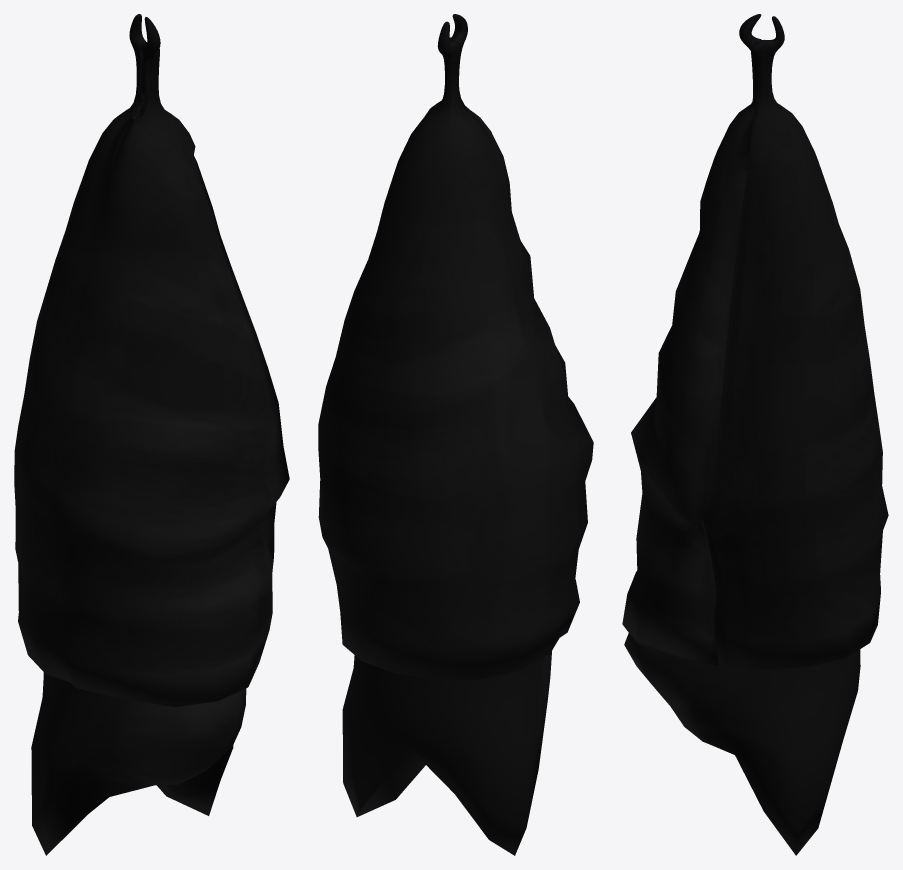
Rendered from Morcego.fbx.
3 views of the same model, side by side, from view 1: azimuth 30°, elevation 25°; view 2: azimuth 150°, elevation 25°; view 3: azimuth 270°, elevation 25° (orthographic). The views are drawn at different scales.
Parts seen in each view (by area): view 1: Cube.001; view 2: Cube.001; view 3: Cube.001.
Part boxes in pixels (bbox=[...]): Cube.001: bbox=[14, 14, 289, 855]; Cube.001: bbox=[318, 14, 593, 855]; Cube.001: bbox=[622, 14, 888, 855].
Bounding box in the file's own units: 218 × 711 × 214.
Materials: 1 (1 with a texture image).
